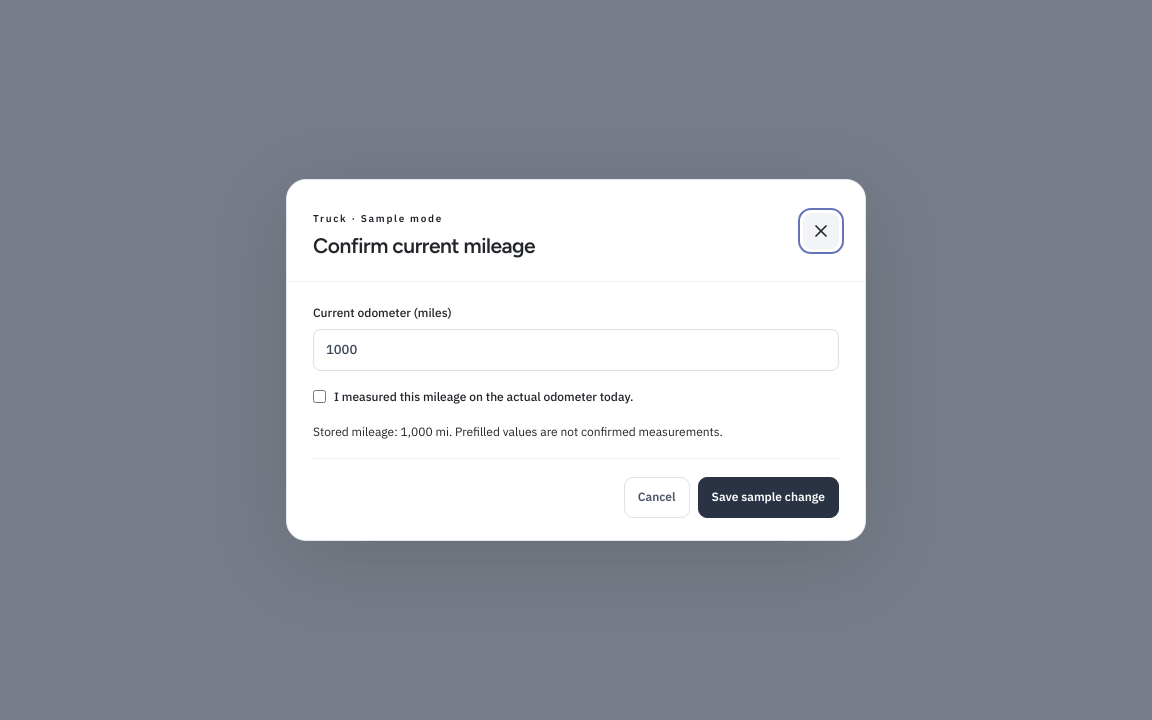
Test: retains a failed save and displays the error without closing
The image size is (1152, 720).
Expected: the label "I measured this mileage on the actual odometer today." is shown, [313,389,634,404]
Click the checkbox labelled "I measured this mileage on the actual odometer today.". click: (320, 396)
box: [313,390,326,403]
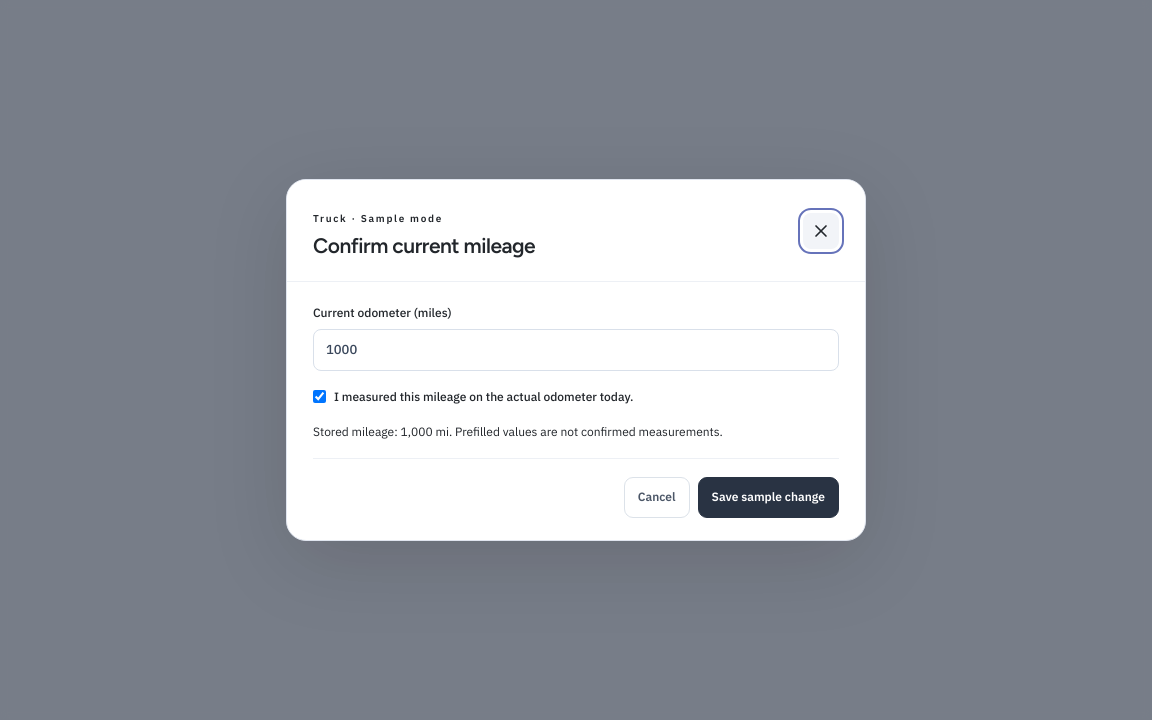
Click the button "Save sample change". click: (768, 498)
box: [698,477,839,518]
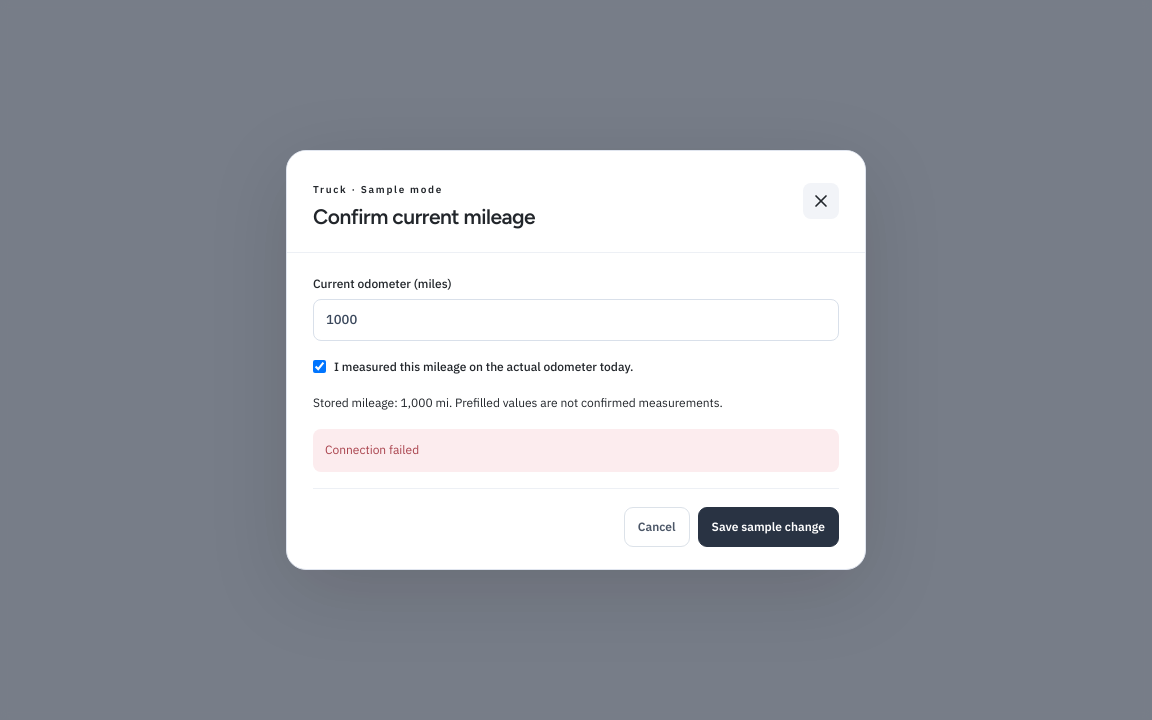
Expected: the dialog is shown, [286,150,866,570]
Now the message "Connection failed" is shown, box [313,429,839,472]
